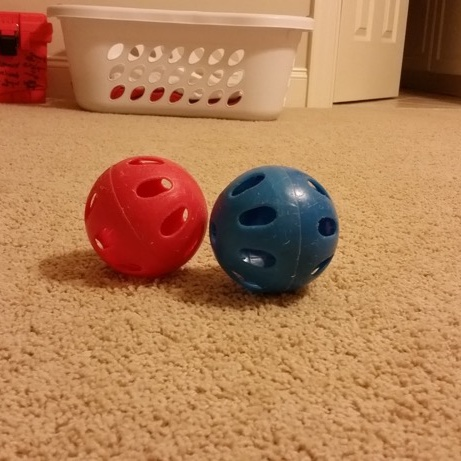ball: (206, 161, 346, 303), (79, 152, 208, 282)
